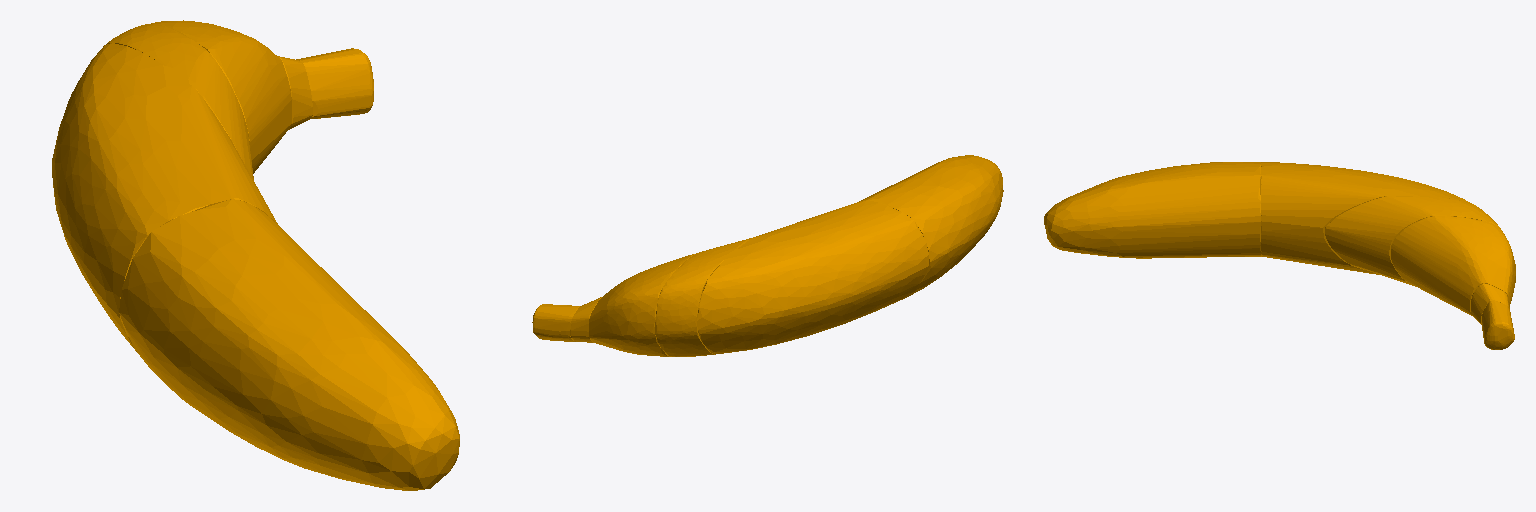
robot.urdf — 011_banana:
<?xml version="1.0" encoding="UTF-8"?>
<robot name="011_banana">
	<link name="base">
		<collision>
			<geometry>
				<mesh filename="..\vhacd\011_banana_vhacd.obj" scale="1.0 1.0 1.0"/>
			</geometry>
			<origin xyz="0 0 0"/>
			<contact_coefficients mu="0.24" />
		</collision>
		<visual>
			<geometry>
				<mesh filename="..\vhacd\011_banana_vhacd.obj" scale="1.0 1.0 1.0"/>
			</geometry>
			<origin xyz="0 0 0"/>
		</visual>
		<inertial>
			<mass value="0"/>
			<inertia ixx="0.0" ixy="-0.0" ixz="0.0" iyy="0.0" iyz="-0.0" izz="0.0" />
			<origin xyz="-0.009936102478225578 0.004072679184523655 0.017126889230838604"/>
		</inertial>
	</link>
</robot>

--- What the picture shows (computed from the rendered views, not written in the file) ---
3 views of the same robot in one strip: view 1: azimuth 30°, elevation 25°; view 2: azimuth 150°, elevation 25°; view 3: azimuth 270°, elevation 25° (orthographic).
Robot: 011_banana — 1 links, 0 joints (none); root link base; default pose: all joints at 0.
Links seen in each view (by area): view 1: base; view 2: base; view 3: base.
Link boxes in pixels (x1,y1,x2,y2): base: (52, 20, 459, 490); base: (532, 155, 1003, 356); base: (1044, 162, 1515, 349).
Size in the robot's own frame: 0.1093 by 0.1787 by 0.037 metres.
Meshes: 1 distinct files referenced, 1 mesh visuals loaded (1 OBJ).